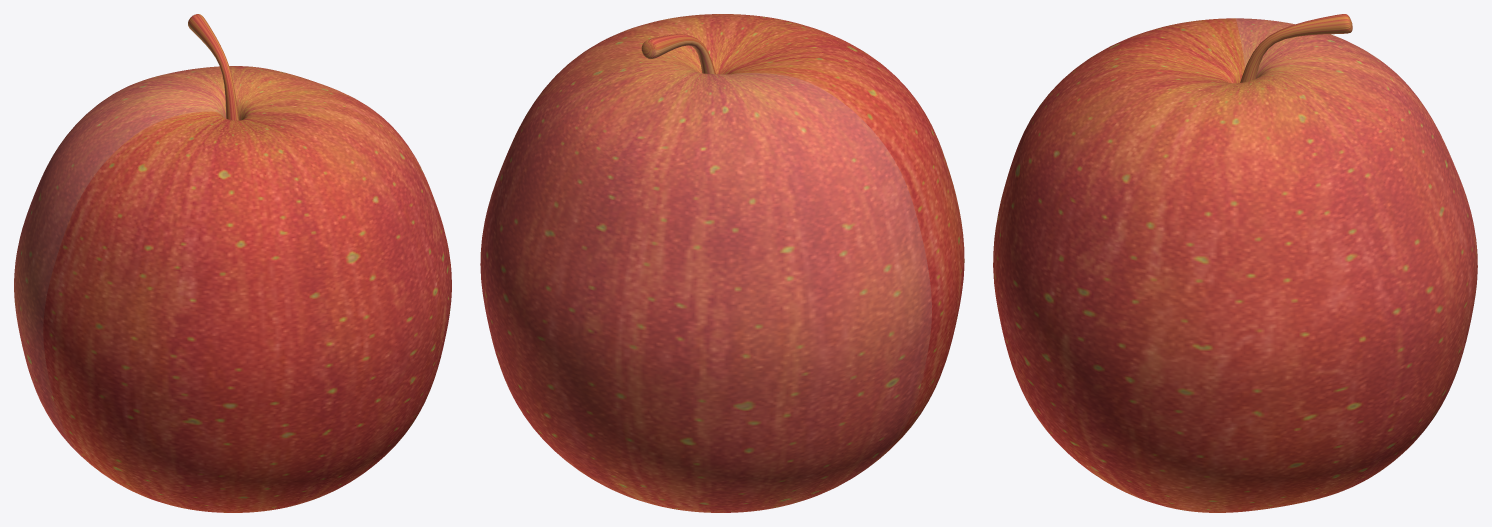
File: apple.fbx
3 views of the same model, side by side, from view 1: azimuth 30°, elevation 25°; view 2: azimuth 150°, elevation 25°; view 3: azimuth 270°, elevation 25° (orthographic). The views are drawn at different scales.
Visible parts, largest first — view 1: Apple; view 2: Apple; view 3: Apple.
Boxes of the visible parts, box(x1,y1,x2,y2) form: Apple: box(14, 14, 451, 512); Apple: box(480, 14, 964, 512); Apple: box(993, 14, 1477, 512).
Bounding box in the file's own units: 191 × 201 × 191.
